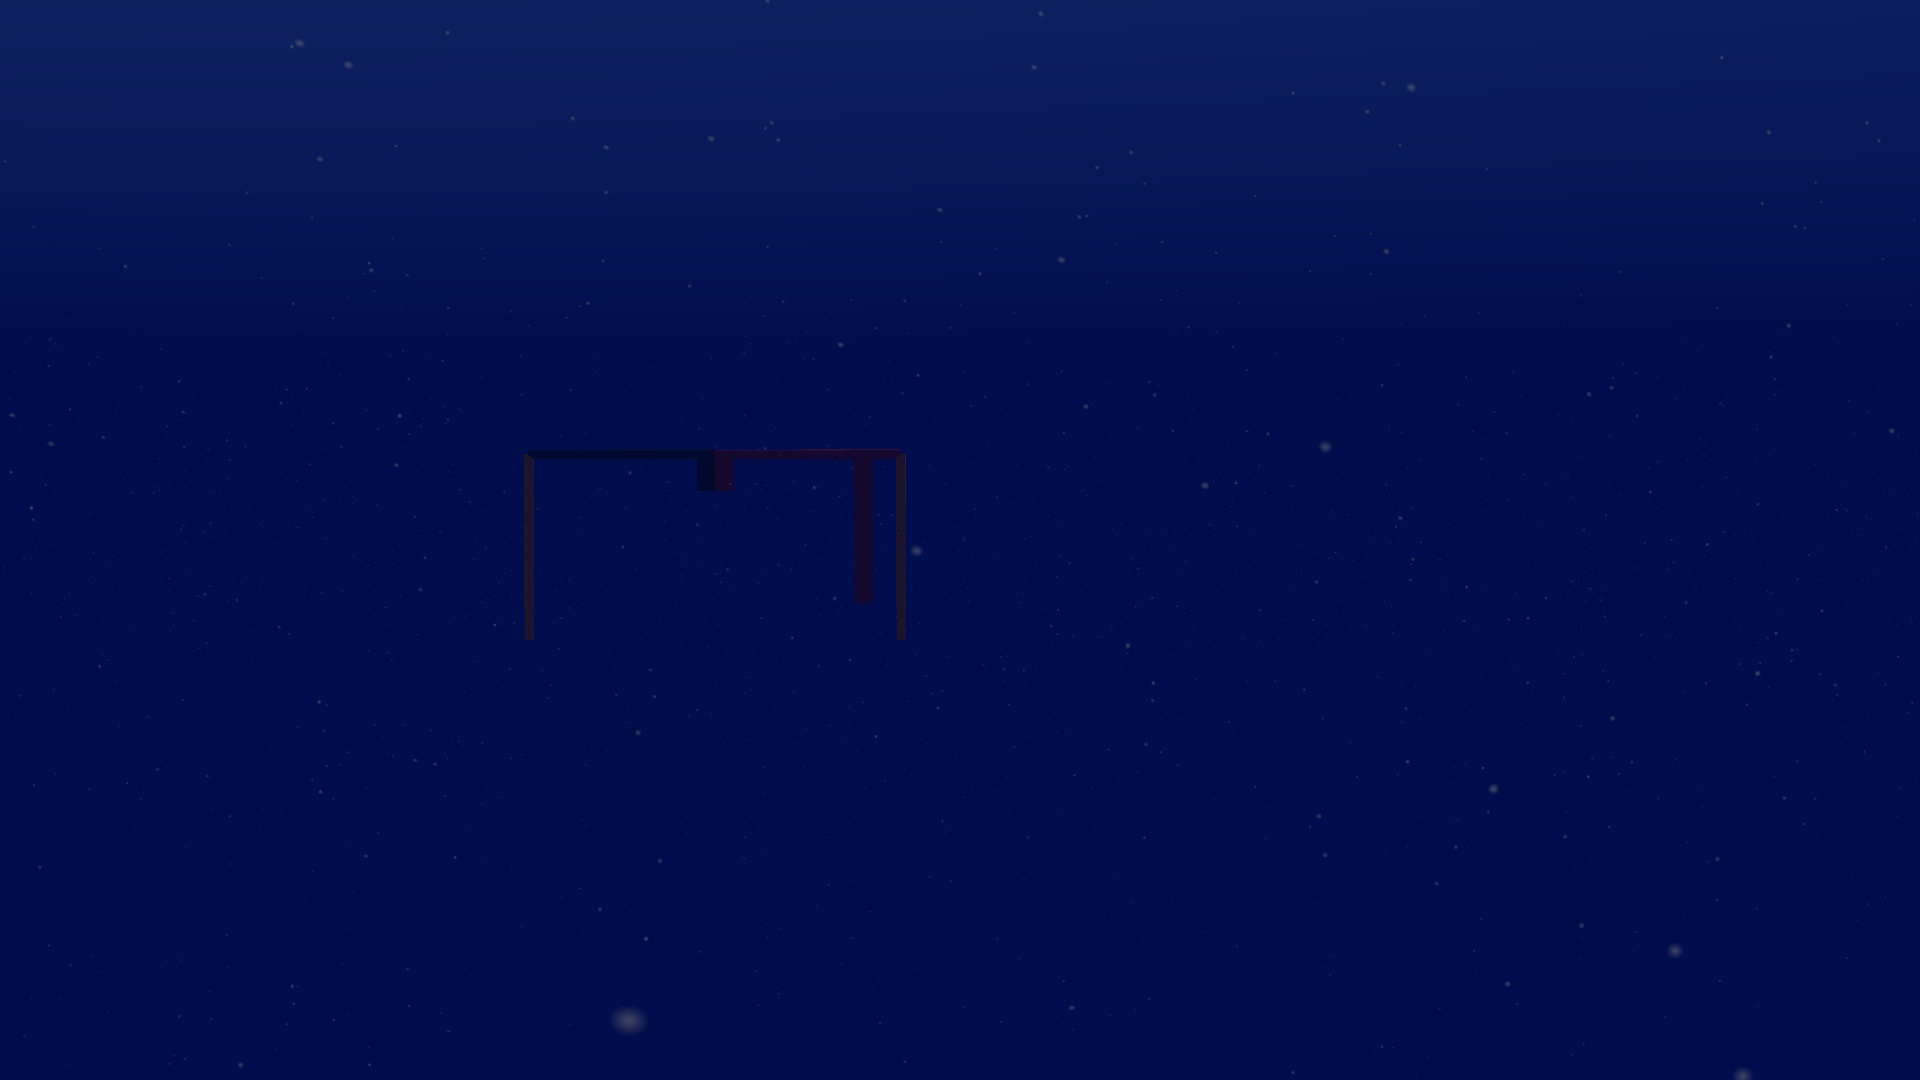Gate: (516, 439, 913, 655)
